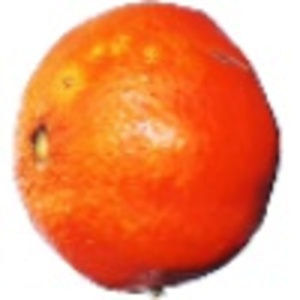tangerina: (11, 1, 284, 300)
